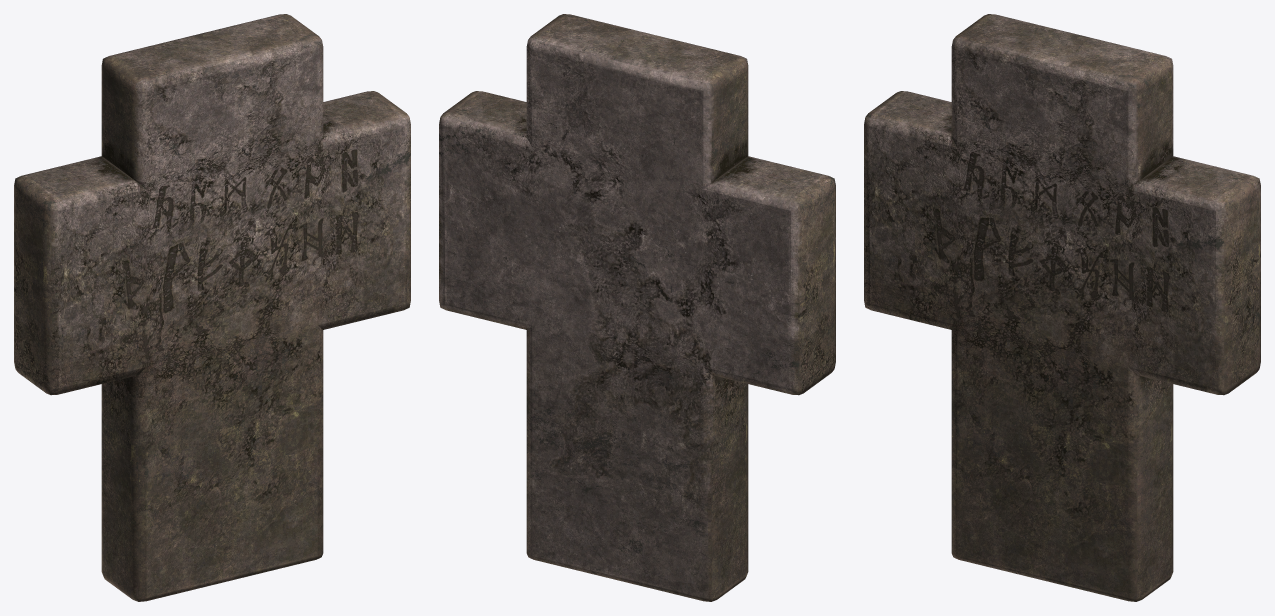
Rendered from SM_gravestone_10.fbx.
3 views of the same model, side by side, from view 1: azimuth 30°, elevation 25°; view 2: azimuth 150°, elevation 25°; view 3: azimuth 330°, elevation 25° (orthographic).
Parts seen in each view (by area): view 1: SM_gravestone_010; view 2: SM_gravestone_010; view 3: SM_gravestone_010.
Boxes of the visible parts, bbox=[...] form: SM_gravestone_010: bbox=[14, 14, 410, 601]; SM_gravestone_010: bbox=[439, 14, 835, 601]; SM_gravestone_010: bbox=[864, 14, 1260, 601].
Size of the model in its own units: 55.28 by 75.53 by 10.28.
